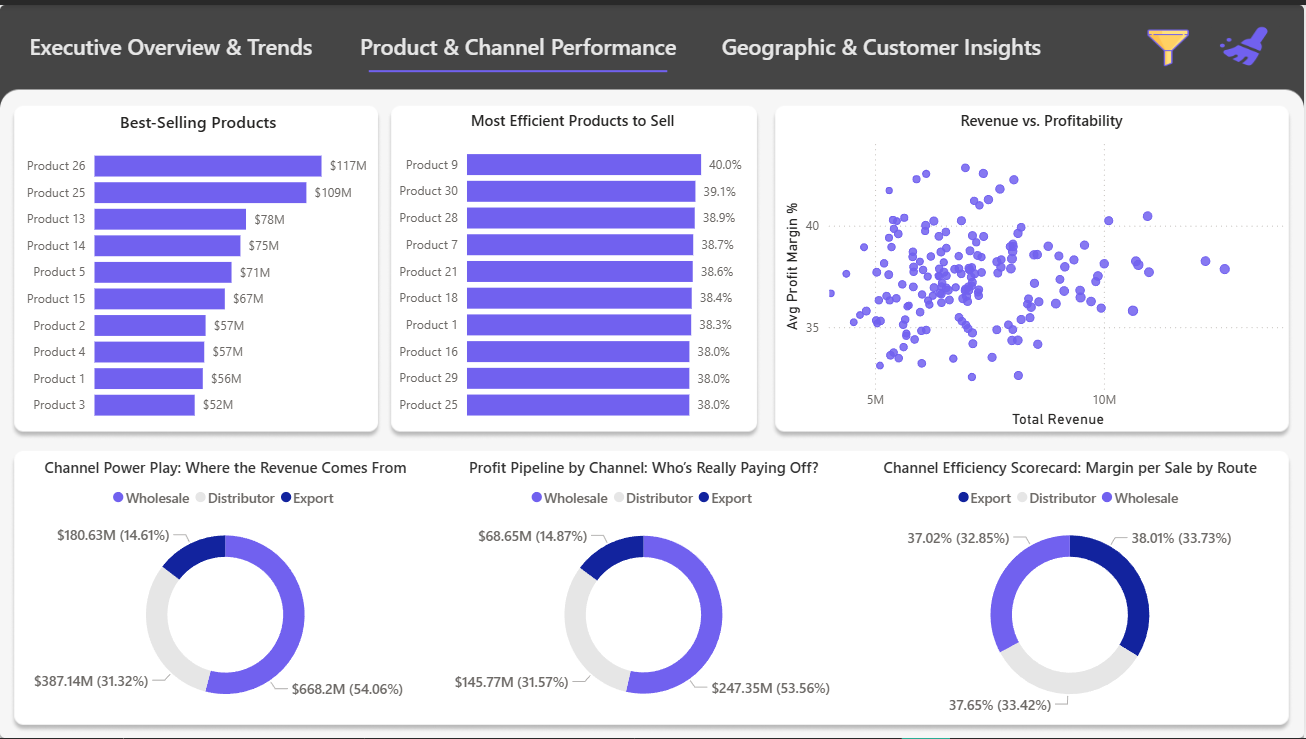

This screenshot's page, from the dashboard's own definition file:
{"tool":"powerbi","page":{"name":"Product & Channel Performance","canvas":[1280,720],"ordinal":1},"visuals":[{"type":"barChart","title":"Best-Selling Products","fields":{"Category":["Sales_data.product_name"],"Y":["Measures_.Total Revenue"]},"box":[16,103,357,316],"z":0},{"type":"scatterChart","title":"Revenue vs. Profitability","fields":{"X":["Customer Summary.Total Revenue"],"Y":["Customer Summary.Avg Profit Margin %"],"Size":["Sum(Customer Summary.Order Count)"]},"box":[764,103,516,317],"z":1000},{"type":"barChart","title":"Most Efficient Products to Sell","fields":{"Category":["Sales_data.product_name"],"Y":["Measures_.Profit Margin %"]},"box":[382,103,361,316],"z":2000},{"type":"donutChart","title":"Channel Power Play: Where the Revenue Comes From","fields":{"Category":["Sales_data.channel"],"Y":["Measures_.Total Revenue"]},"box":[16.7,443.3,408.3,261.7],"z":3000},{"type":"donutChart","title":"Profit Pipeline by Channel: Who’s Really Paying Off?","fields":{"Category":["Sales_data.channel"],"Y":["Measures_.Total Profit"]},"box":[436.7,443.3,390,261.7],"z":4000},{"type":"donutChart","title":"Channel Efficiency Scorecard: Margin per Sale by Route","fields":{"Category":["Sales_data.channel"],"Y":["Measures_.Profit Margin %"]},"box":[843.3,443.3,415,261.7],"z":5000},{"type":"actionButton","box":[337.2,14.1,342.3,55.1],"z":6000},{"type":"actionButton","box":[9,14.1,317.9,55.1],"z":7000},{"type":"actionButton","box":[695,13.8,341.2,55],"z":8000},{"type":"actionButton","box":[1188,14,70,55],"z":9000},{"type":"actionButton","box":[1120,21,53,42],"z":10000}]}

Visuals, with their boxes in screenshot pixels (x1, y1, x2, y2), scaled from the page's 1280x720 canvas onto the 1306x739 screenshot:
"Best-Selling Products" barChart: locate(16, 106, 381, 430)
"Revenue vs. Profitability" scatterChart: locate(780, 106, 1305, 431)
"Most Efficient Products to Sell" barChart: locate(390, 106, 758, 430)
"Channel Power Play: Where the Revenue Comes From" donutChart: locate(17, 455, 434, 724)
"Profit Pipeline by Channel: Who’s Really Paying Off?" donutChart: locate(446, 455, 843, 724)
"Channel Efficiency Scorecard: Margin per Sale by Route" donutChart: locate(860, 455, 1284, 724)
actionButton: locate(344, 14, 693, 71)
actionButton: locate(9, 14, 334, 71)
actionButton: locate(709, 14, 1057, 71)
actionButton: locate(1212, 14, 1284, 71)
actionButton: locate(1143, 22, 1197, 65)
